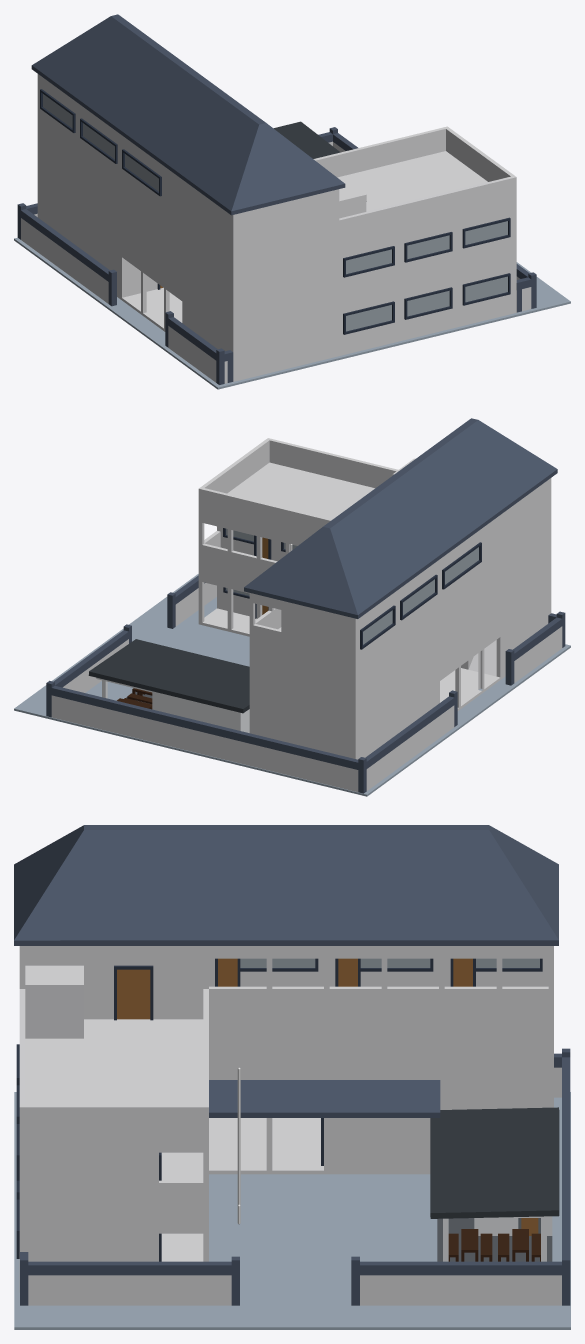
The model's file is school-high.glb.
3 views of the same model, one above another, from view 1: azimuth 30°, elevation 25°; view 2: azimuth 150°, elevation 25°; view 3: azimuth 270°, elevation 25° (orthographic). The views are drawn at different scales.
Parts seen in each view (by area): view 1: school-high; view 2: school-high; view 3: school-high.
Part boxes in pixels (<box>): school-high: <box>14,14,570,389</box>; school-high: <box>14,418,570,796</box>; school-high: <box>14,825,570,1329</box>.
Bounding box in the file's own units: 20 × 12.45 × 20.01.
